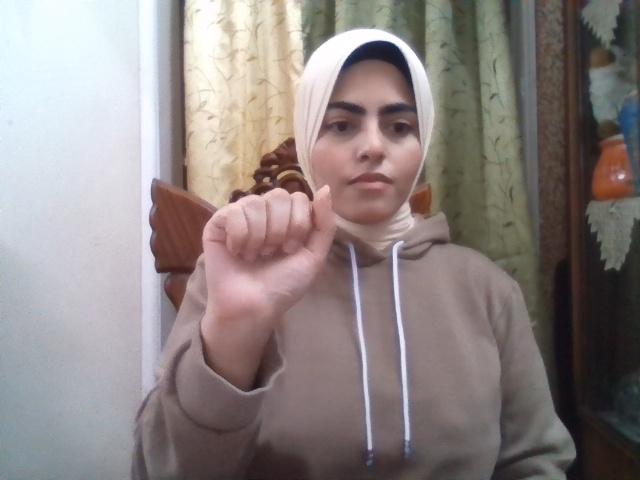A: (203, 185, 336, 329)
